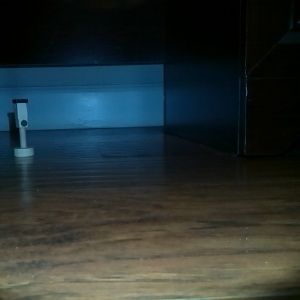traffic light green: (9, 96, 36, 159)
